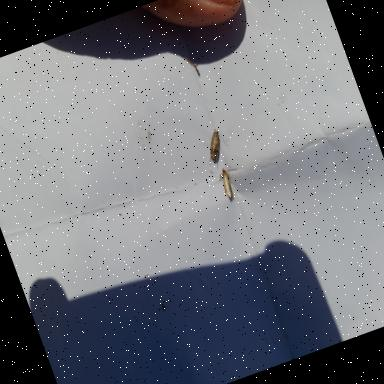pbw: (198, 126, 236, 168), (216, 164, 248, 204)
